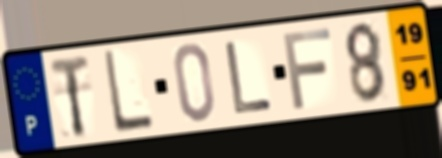0: (170, 41, 217, 125)
8: (343, 20, 390, 106)
F: (280, 25, 335, 112)
L: (101, 48, 156, 137), (222, 39, 276, 117)
T: (47, 52, 92, 141)
